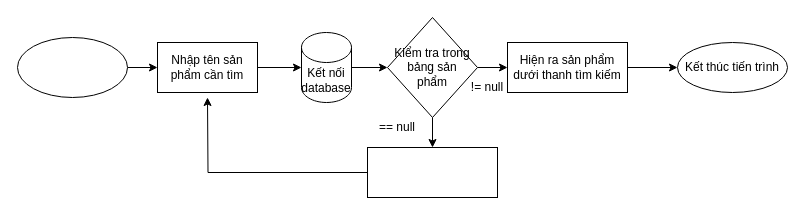
This 805x215 diagram has some shape labels left out. The shapes that lost their labels are listed below. From the top down, each one's centre as x and y in pixels, then its label:
point 72,67: Tìm kiếm sản phẩm
point 432,172: Hiện ra "Không có kết quả phù hợp" dưới thanh tìm kiếm
